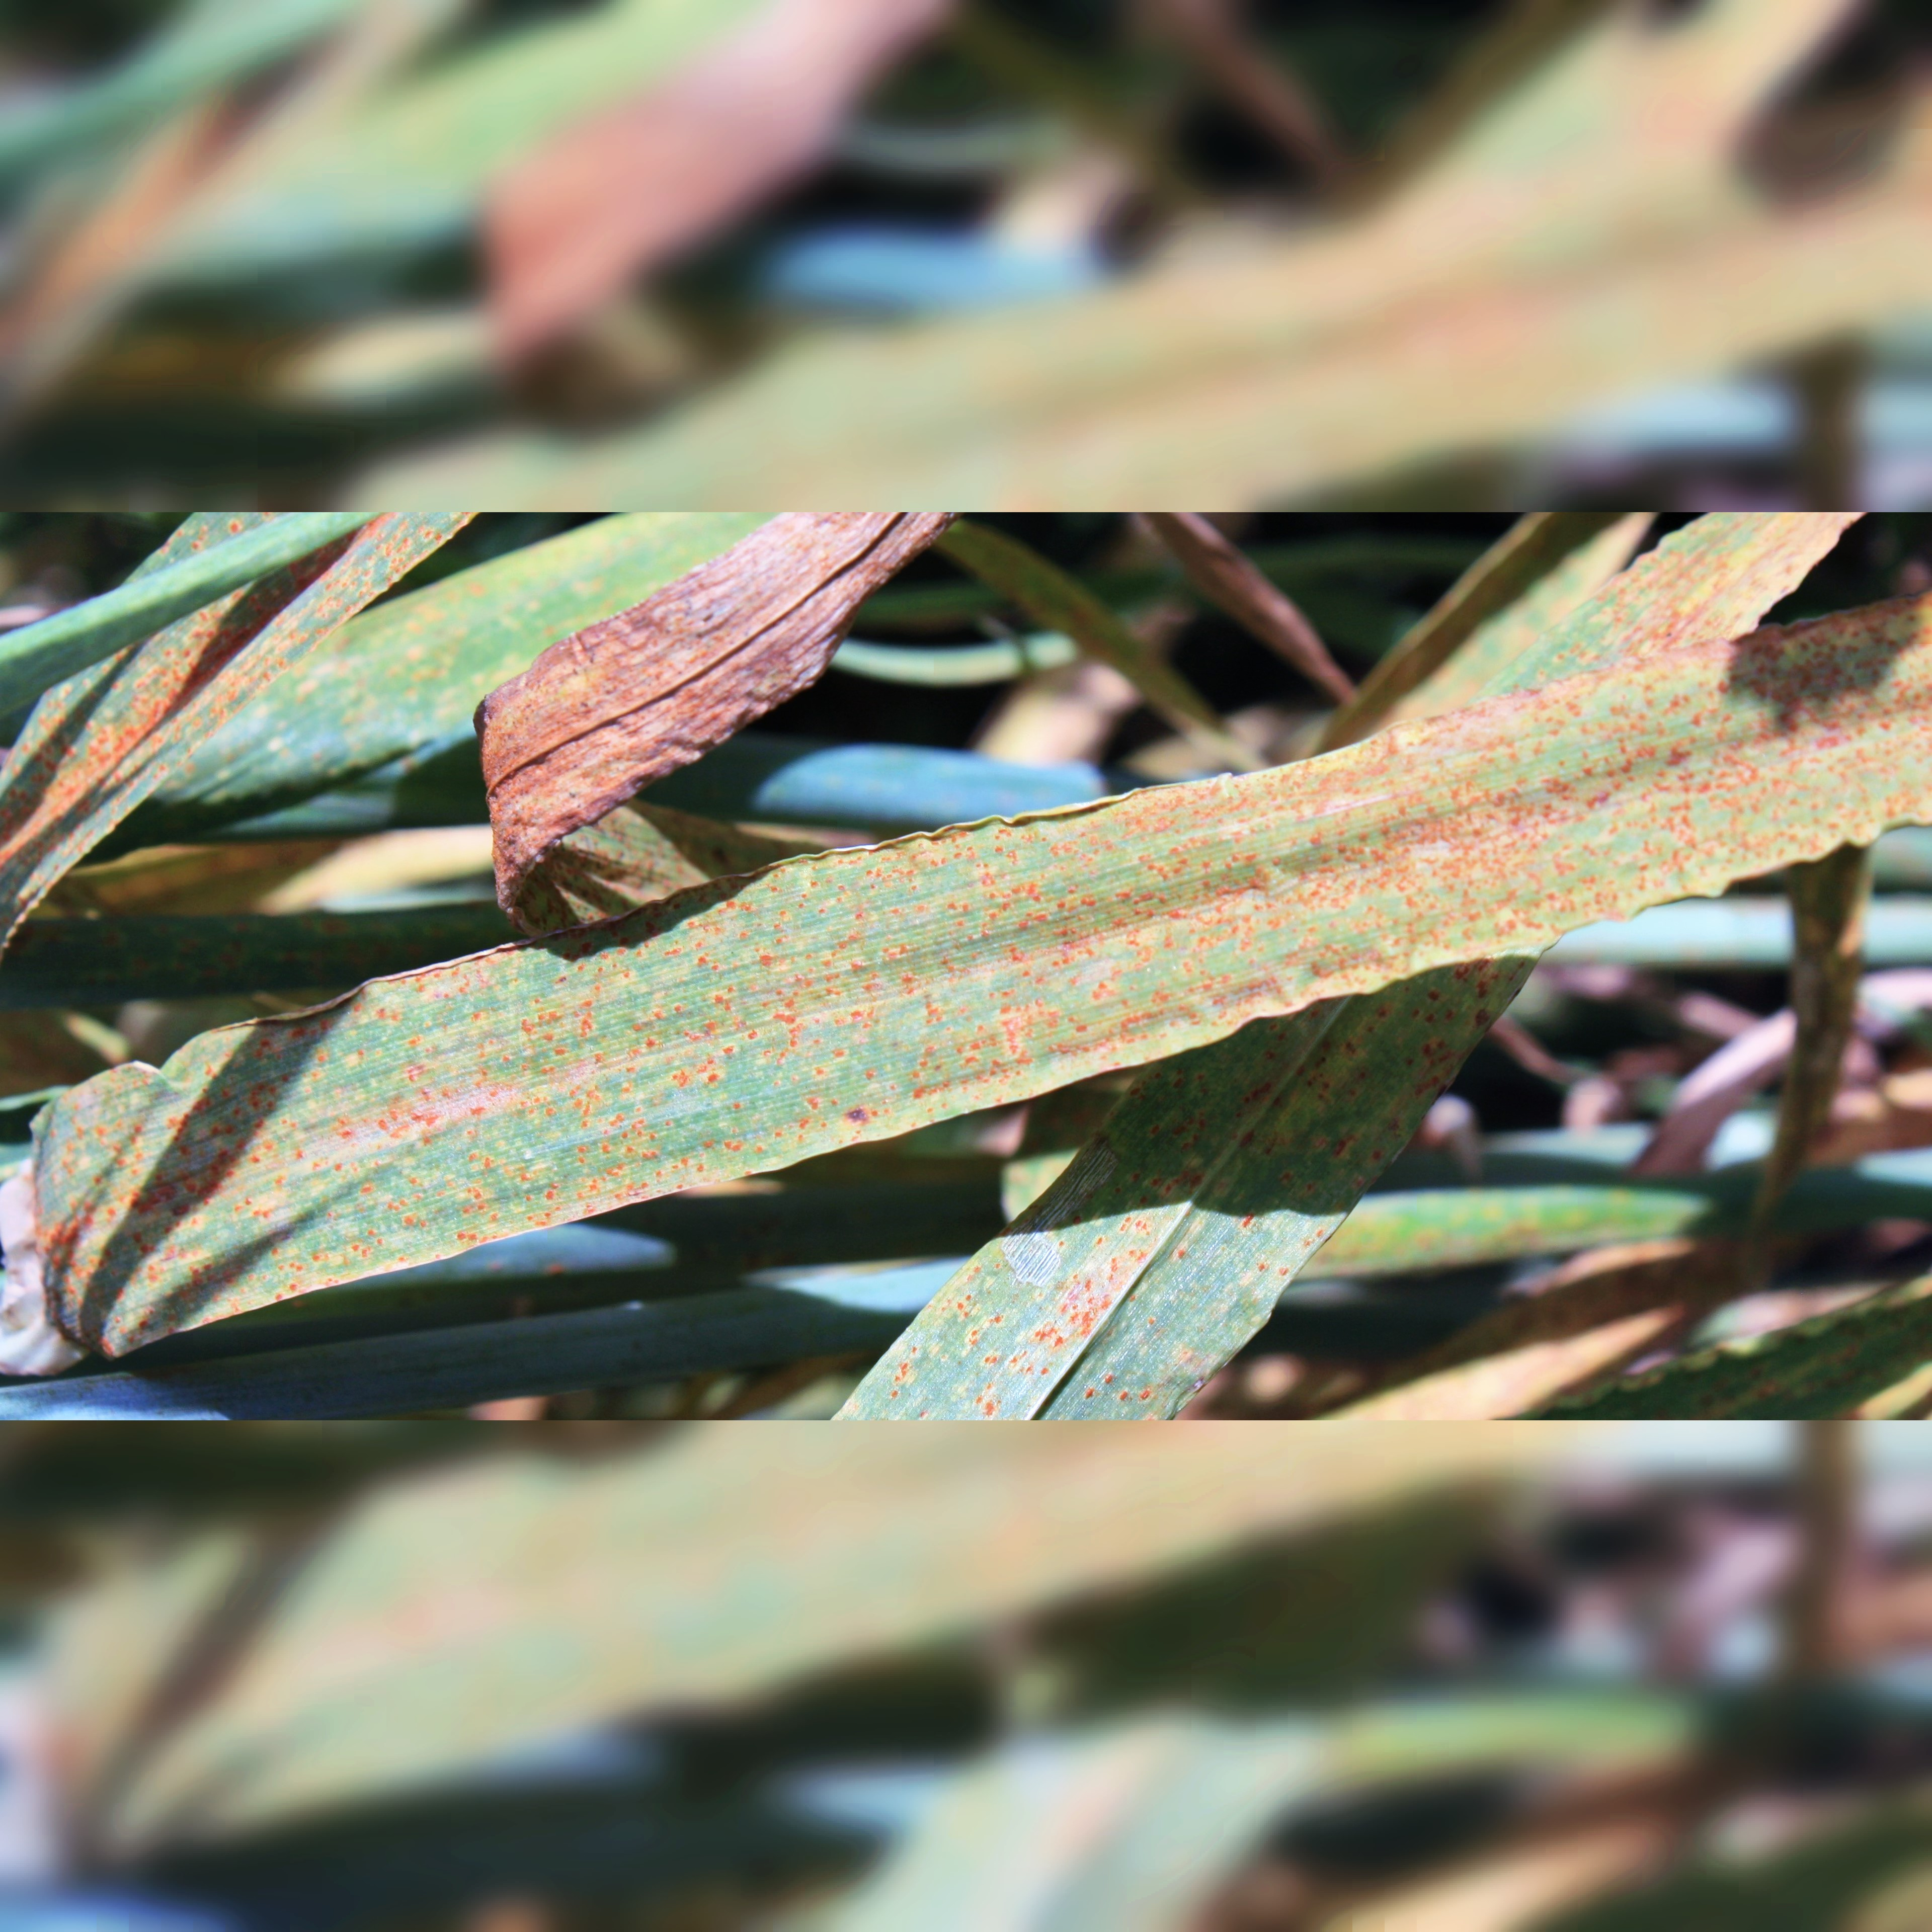Leaf Rust: (292, 642, 1859, 1279)
